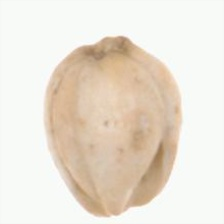L1: (78, 195, 153, 219), (75, 35, 131, 63)
L2: (43, 36, 182, 218)
